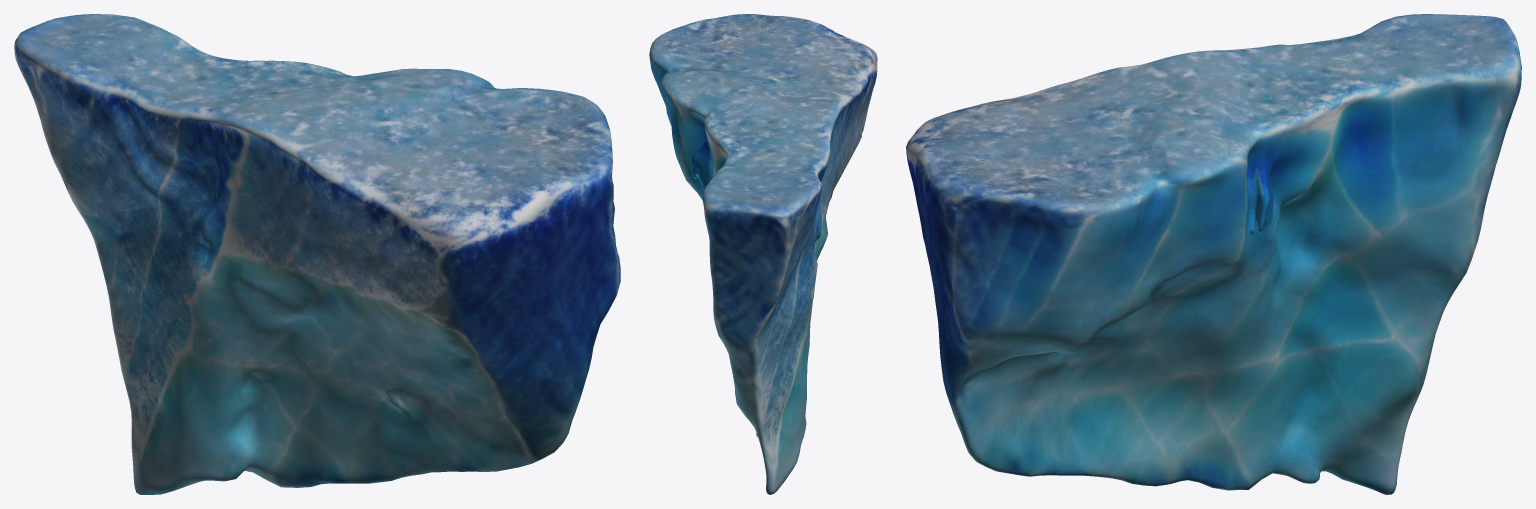
File: 41f3d5ec0d1b_Ice_glacier__wall_i.fbx
The picture shows the model from 3 angles, left to right: view 1: azimuth 30°, elevation 25°; view 2: azimuth 150°, elevation 25°; view 3: azimuth 270°, elevation 25°; orthographic projection. The views are drawn at different scales.
Visible parts, largest first — view 1: mesh; view 2: mesh; view 3: mesh.
Boxes of the visible parts, x1,y1,x2,y2 form: mesh: [14, 14, 620, 494]; mesh: [649, 14, 877, 494]; mesh: [906, 14, 1521, 494].
Size of the model in its own units: 72.86 by 80.46 by 99.84.
